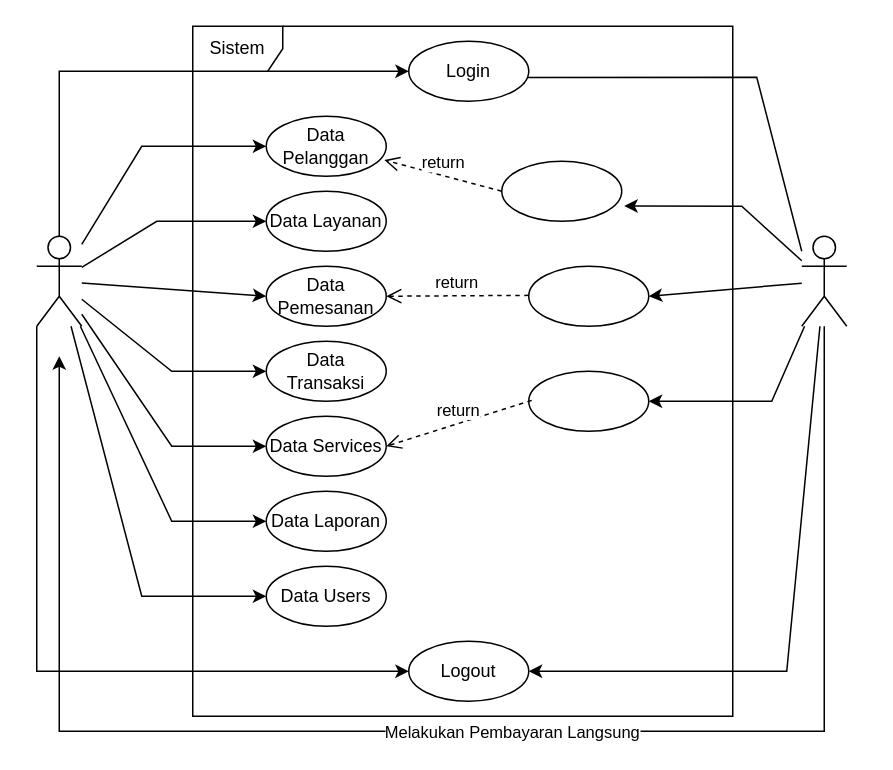
This 893x770 diagram has some shape labels left out. Here are the shapes that lost their labels. From the top down, the centre of each, then its label:
At (561,190): "Registrasi".
At (58,280): "Admin".
At (588,295): "Pesan Layanan".
At (823,280): "Pelanggan".
At (588,400): "Pesan Services".
